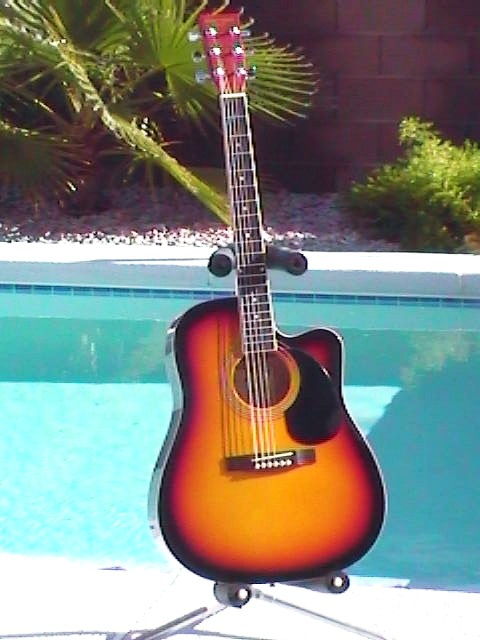guitar: (145, 11, 387, 581)
